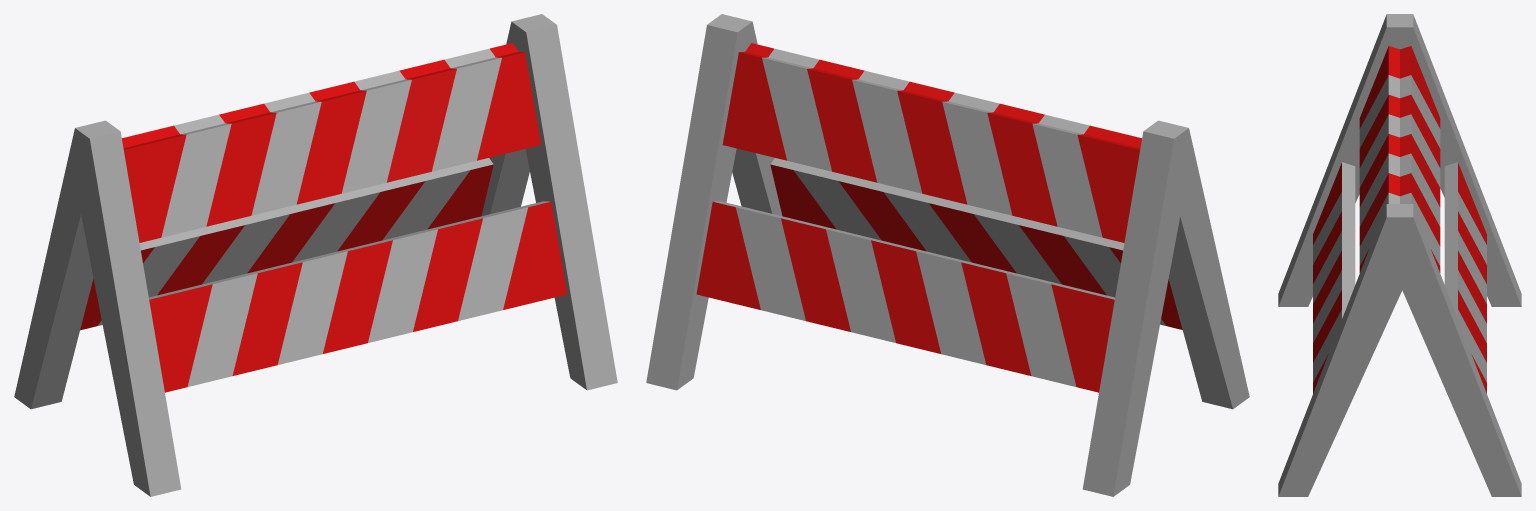
Rendered from SM_bumper05.FBX.
The picture shows the model from 3 angles, left to right: view 1: azimuth 30°, elevation 25°; view 2: azimuth 150°, elevation 25°; view 3: azimuth 270°, elevation 25°; orthographic projection. The views are drawn at different scales.
Parts seen in each view (by area): view 1: bumper05; view 2: bumper05; view 3: bumper05.
Boxes of the visible parts, bbox=[...] form: bumper05: bbox=[14, 14, 617, 496]; bumper05: bbox=[646, 14, 1249, 496]; bumper05: bbox=[1278, 14, 1521, 496].
Bounding box in the file's own units: 152 × 97.39 × 76.77.
